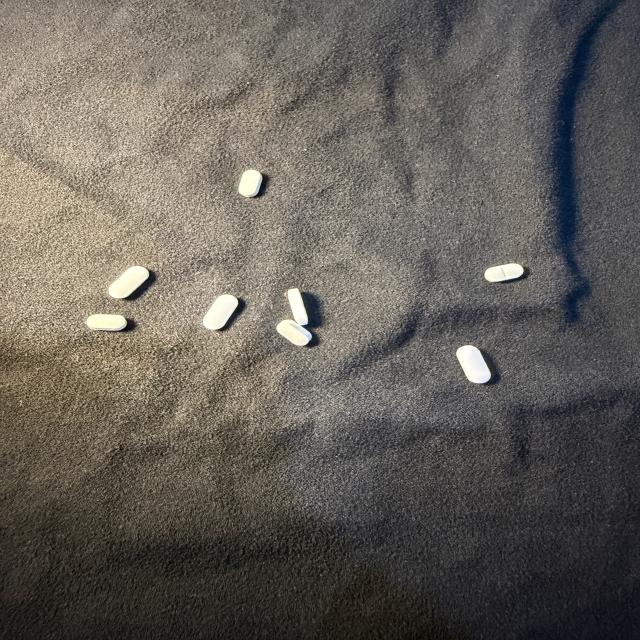pill: (108, 266, 149, 298), (457, 345, 491, 383), (203, 294, 238, 329), (277, 320, 311, 346), (287, 289, 308, 325), (485, 264, 524, 282), (86, 314, 126, 331), (239, 170, 262, 197)
